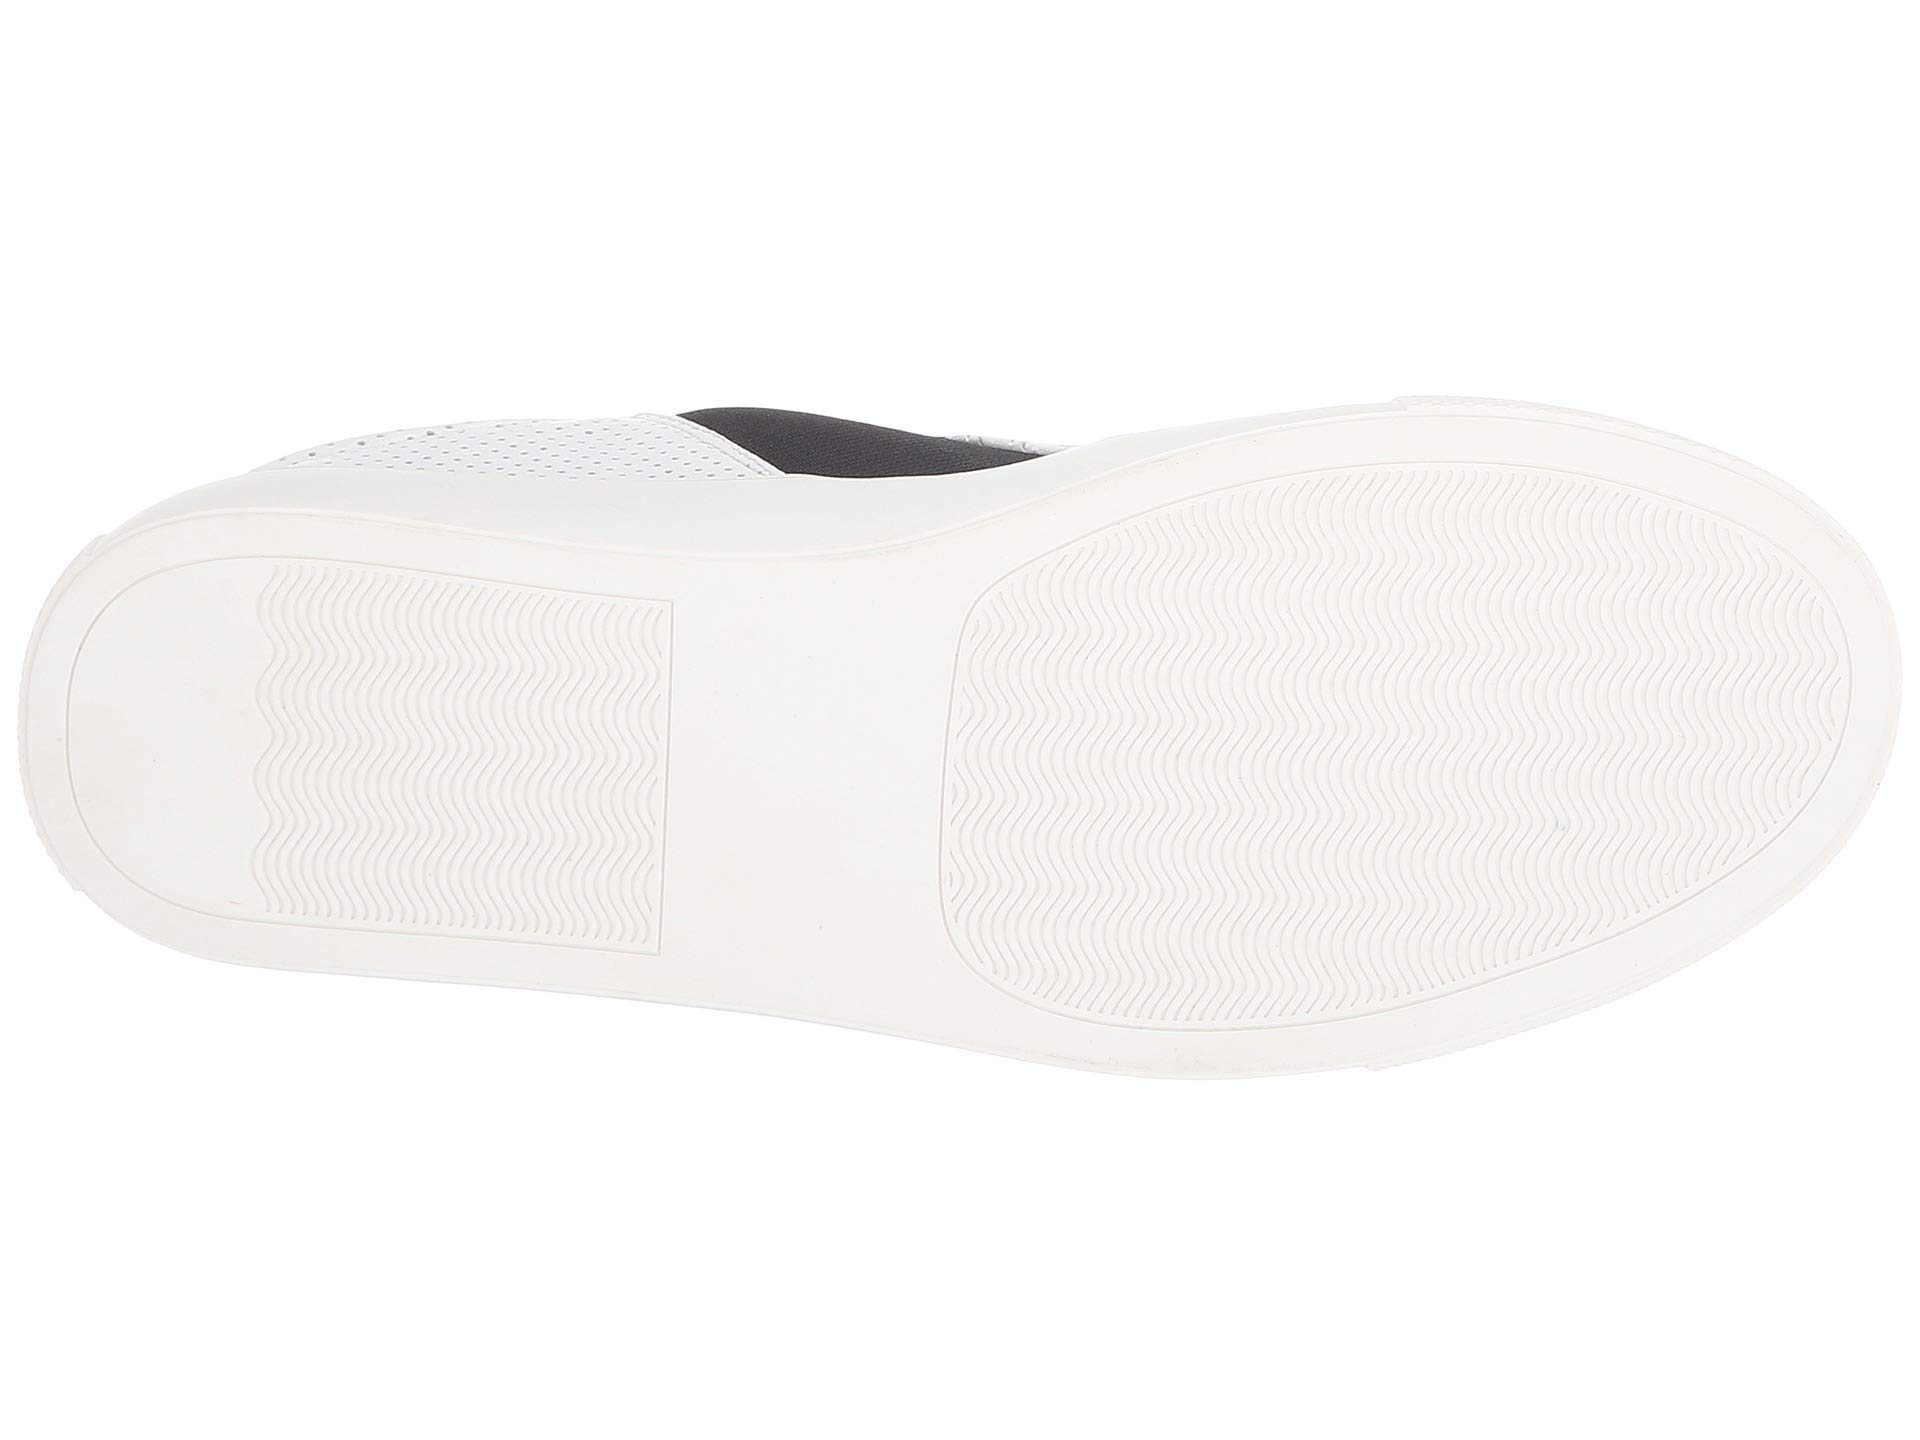chevron: (1014, 507, 1761, 985), (299, 601, 656, 942)
